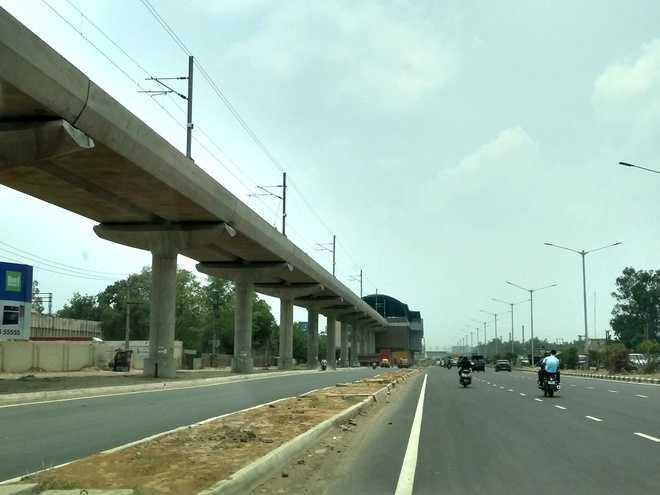motocar: (529, 350, 568, 403), (450, 350, 476, 390)
